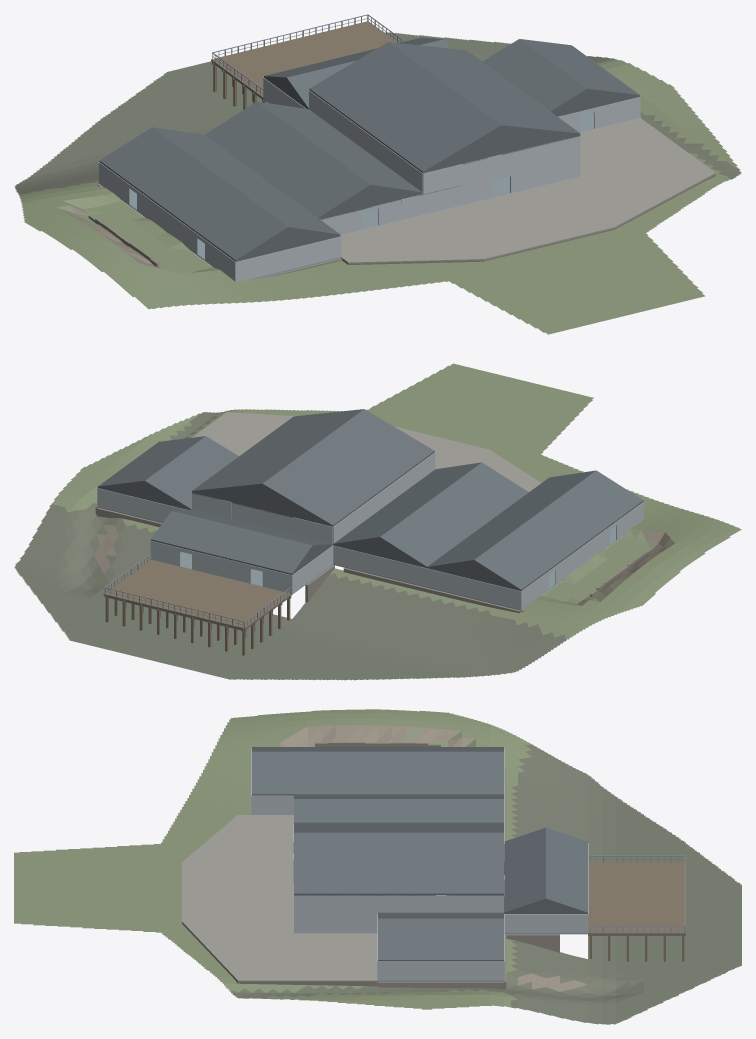
File: courts-and-docks.glb
3 renders of one model, top to bottom at view 1: azimuth 30°, elevation 25°; view 2: azimuth 150°, elevation 25°; view 3: azimuth 270°, elevation 25°, orthographic. The views are drawn at different scales.
Parts seen in each view (by area): view 1: Saved editor circulation terrain WLD-13, WLD-13 cannery service yard structural surface region0, processing-hall roof west, crew-mess-and-bunks roof west, boiler-and-wash roof west, processing-hall roof east, WLD-13 shore loading dock structural surface region0, crew-mess-and-bunks roof east, boiler-and-wash roof east, cold-store roof west, Entrance rebuild WLD-13 processing S end, cold-store roof east (+19 smaller); view 2: Saved editor circulation terrain WLD-13, processing-hall roof west, crew-mess-and-bunks roof west, WLD-13 shore loading dock structural surface region0, boiler-and-wash roof west, office-and-stores roof north, WLD-13 cannery service yard structural surface region0, processing-hall roof east, crew-mess-and-bunks roof east, cold-store roof west, boiler-and-wash roof east, processing-hall gable north (+19 smaller); view 3: Saved editor circulation terrain WLD-13, WLD-13 cannery service yard structural surface region0, processing-hall roof east, crew-mess-and-bunks roof east, WLD-13 shore loading dock structural surface region0, cold-store roof east, boiler-and-wash roof east, Entrance rebuild WLD-13 processing E end, office-and-stores roof south, office-and-stores roof north, Wall cold E, processing-hall roof west (+8 smaller).
Boxes of the visible parts, bbox=[...] form: Saved editor circulation terrain WLD-13: bbox=[14, 32, 741, 334]; WLD-13 cannery service yard structural surface region0: bbox=[340, 117, 715, 263]; processing-hall roof west: bbox=[309, 42, 501, 172]; crew-mess-and-bunks roof west: bbox=[99, 127, 288, 261]; boiler-and-wash roof west: bbox=[205, 101, 370, 218]; processing-hall roof east: bbox=[388, 42, 580, 134]; WLD-13 shore loading dock structural surface region0: bbox=[211, 21, 396, 99]; crew-mess-and-bunks roof east: bbox=[152, 127, 340, 235]; boiler-and-wash roof east: bbox=[257, 101, 422, 193]; cold-store roof west: bbox=[482, 39, 587, 111]; Entrance rebuild WLD-13 processing S end: bbox=[510, 136, 580, 192]; cold-store roof east: bbox=[520, 39, 639, 96]; Saved editor circulation terrain WLD-13: bbox=[14, 363, 741, 680]; processing-hall roof west: bbox=[262, 409, 434, 526]; crew-mess-and-bunks roof west: bbox=[474, 470, 643, 590]; WLD-13 shore loading dock structural surface region0: bbox=[103, 559, 292, 629]; boiler-and-wash roof west: bbox=[380, 462, 528, 567]; office-and-stores roof north: bbox=[151, 511, 312, 574]; WLD-13 cannery service yard structural surface region0: bbox=[192, 412, 541, 491]; processing-hall roof east: bbox=[192, 409, 363, 492]; crew-mess-and-bunks roof east: bbox=[427, 470, 595, 568]; cold-store roof west: bbox=[144, 436, 238, 509]; boiler-and-wash roof east: bbox=[333, 462, 481, 545]; processing-hall gable north: bbox=[192, 485, 333, 526]; Saved editor circulation terrain WLD-13: bbox=[14, 709, 741, 1024]; WLD-13 cannery service yard structural surface region0: bbox=[182, 815, 377, 981]; processing-hall roof east: bbox=[294, 832, 503, 894]; crew-mess-and-bunks roof east: bbox=[252, 751, 503, 795]; WLD-13 shore loading dock structural surface region0: bbox=[588, 862, 685, 934]; cold-store roof east: bbox=[378, 918, 503, 961]; boiler-and-wash roof east: bbox=[294, 799, 503, 822]; Entrance rebuild WLD-13 processing E end: bbox=[294, 895, 433, 933]; office-and-stores roof south: bbox=[504, 827, 545, 913]; office-and-stores roof north: bbox=[546, 827, 587, 913]; Wall cold E: bbox=[378, 961, 503, 980]; processing-hall roof west: bbox=[294, 822, 503, 832].
Size of the model in its own units: 97 by 15.43 by 104.
Materials: 34 (16 with a texture image).
